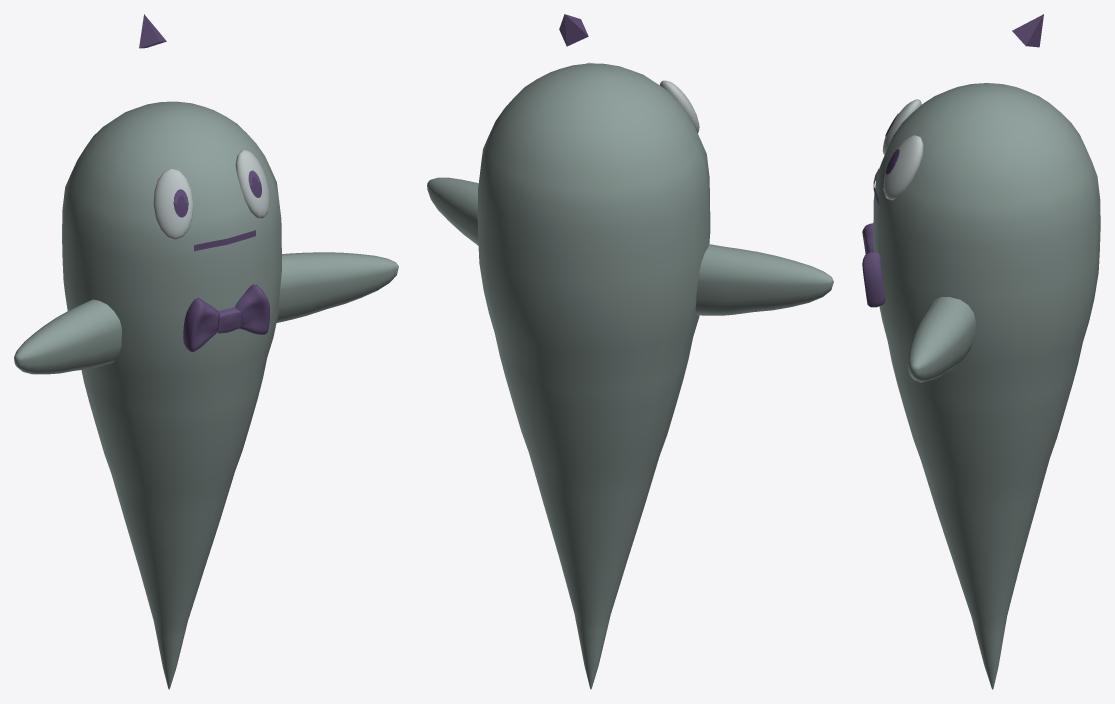
Rendered from Ollie_Rig_2-10-26.fbx.
3 renders of one model, left to right at view 1: azimuth 30°, elevation 25°; view 2: azimuth 150°, elevation 25°; view 3: azimuth 270°, elevation 25°, orthographic. The views are drawn at different scales.
Visible parts, largest first — view 1: Armless_Ollie, Arm_L, Arm_R, EyeWhite_NO_TOUCH (×2), Bowtie; view 2: Armless_Ollie, Arm_R, Arm_L, Hat_Placeholder; view 3: Armless_Ollie, Arm_L, EyeWhite_NO_TOUCH (×2), Bowtie, Hat_Placeholder.
Boxes of the visible parts, x1,y1,x2,y2 form: Armless_Ollie: (62, 101, 281, 689); Arm_L: (276, 252, 398, 322); Arm_R: (14, 299, 121, 374); EyeWhite_NO_TOUCH (×2): (153, 150, 269, 239); Bowtie: (183, 284, 269, 352); Armless_Ollie: (477, 63, 710, 689); Arm_R: (695, 244, 833, 315); Arm_L: (427, 177, 478, 245); Hat_Placeholder: (559, 14, 588, 46); Armless_Ollie: (873, 83, 1100, 689); Arm_L: (907, 297, 975, 382); EyeWhite_NO_TOUCH (×2): (882, 99, 923, 200); Bowtie: (862, 223, 885, 307); Hat_Placeholder: (1012, 14, 1043, 47).
Bounding box in the file's own units: 27.35 × 44.87 × 14.33.
